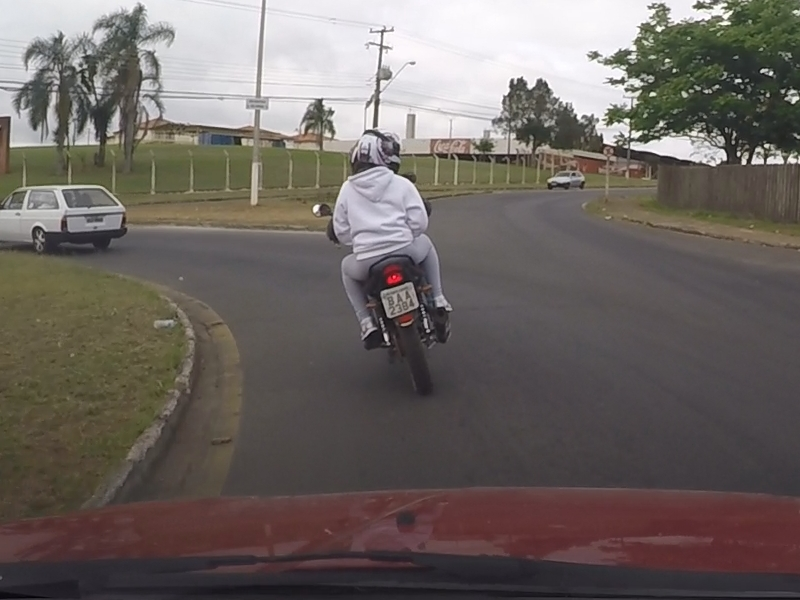placa: (380, 282, 420, 319)
